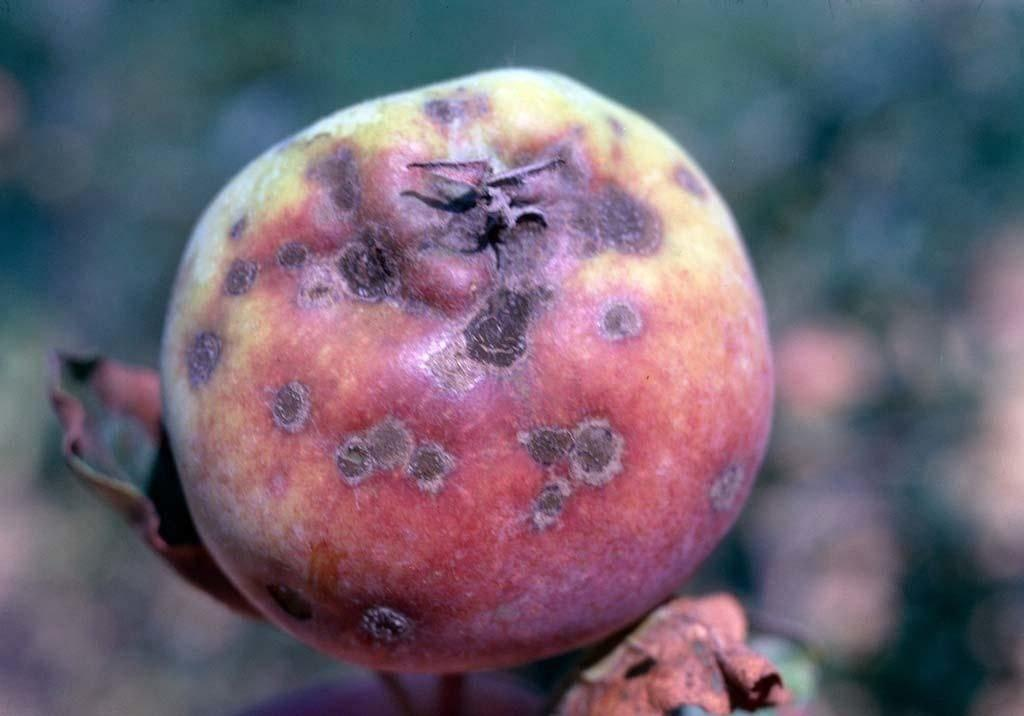Apple: (154, 67, 780, 679)
